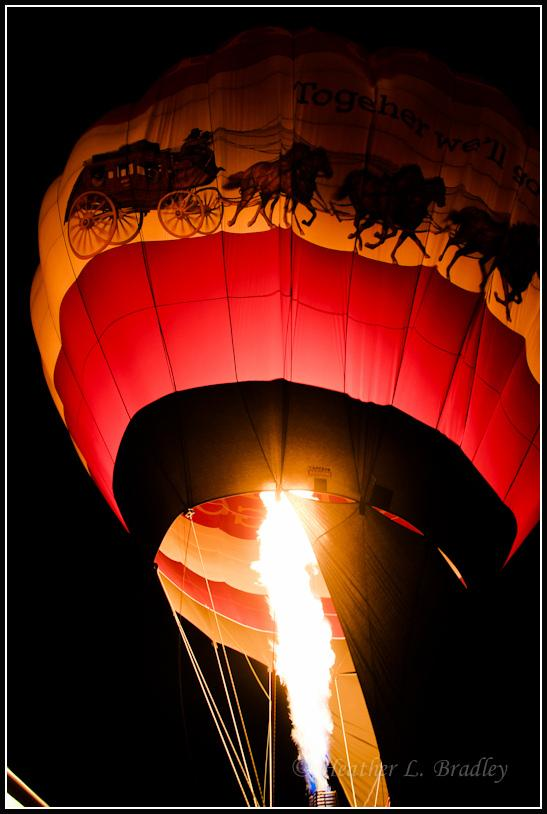fire: (254, 486, 354, 788)
